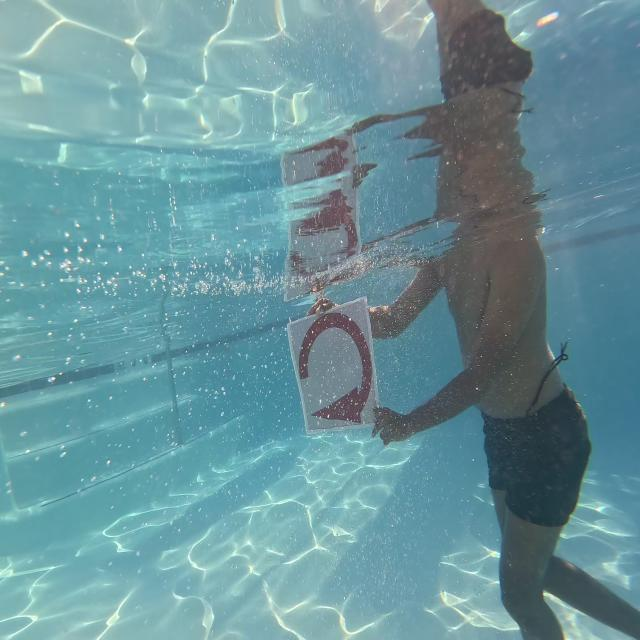red_side: (296, 303, 376, 440)
